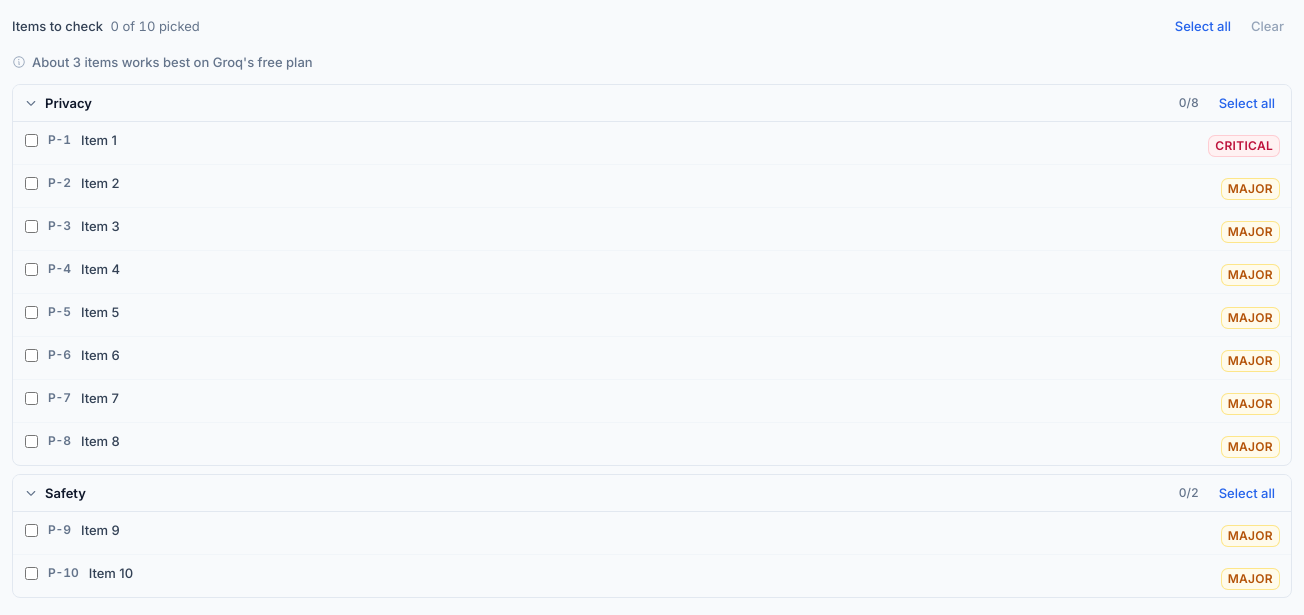
AppItemPicker › folds a category away and back, keeping its picks; categories start open
Click the checkbox labelled "Item 2": (32, 184) 25,177 -> 38,190
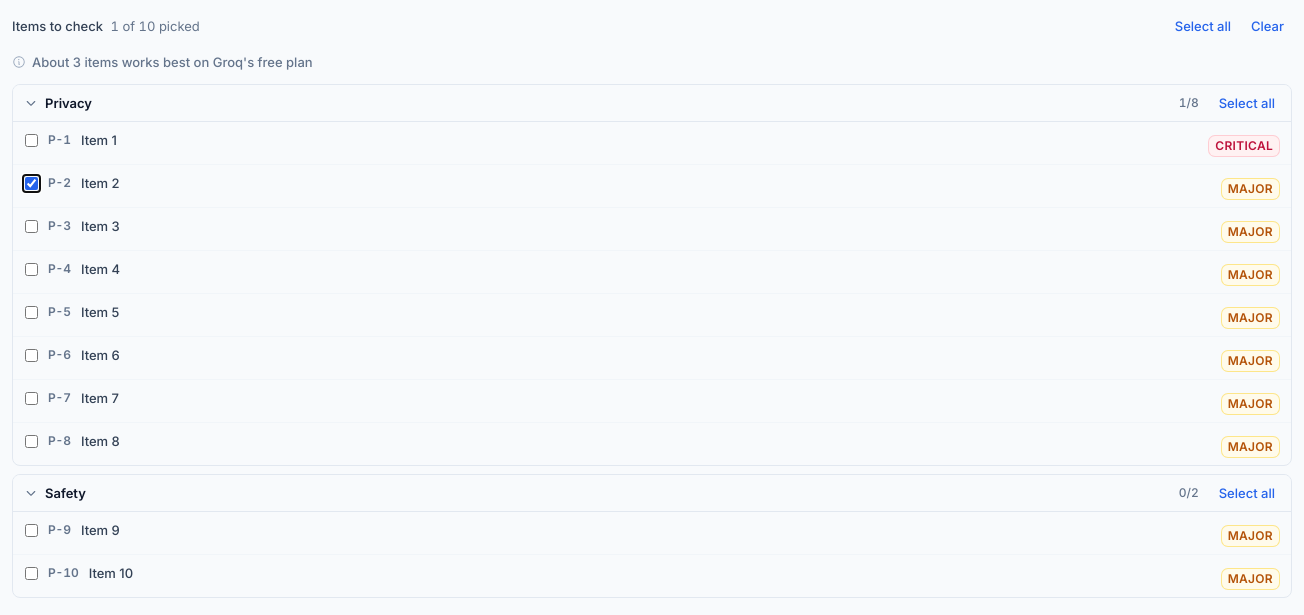
Click the button "Privacy 1/8": (68, 103) 13,85 -> 1211,121
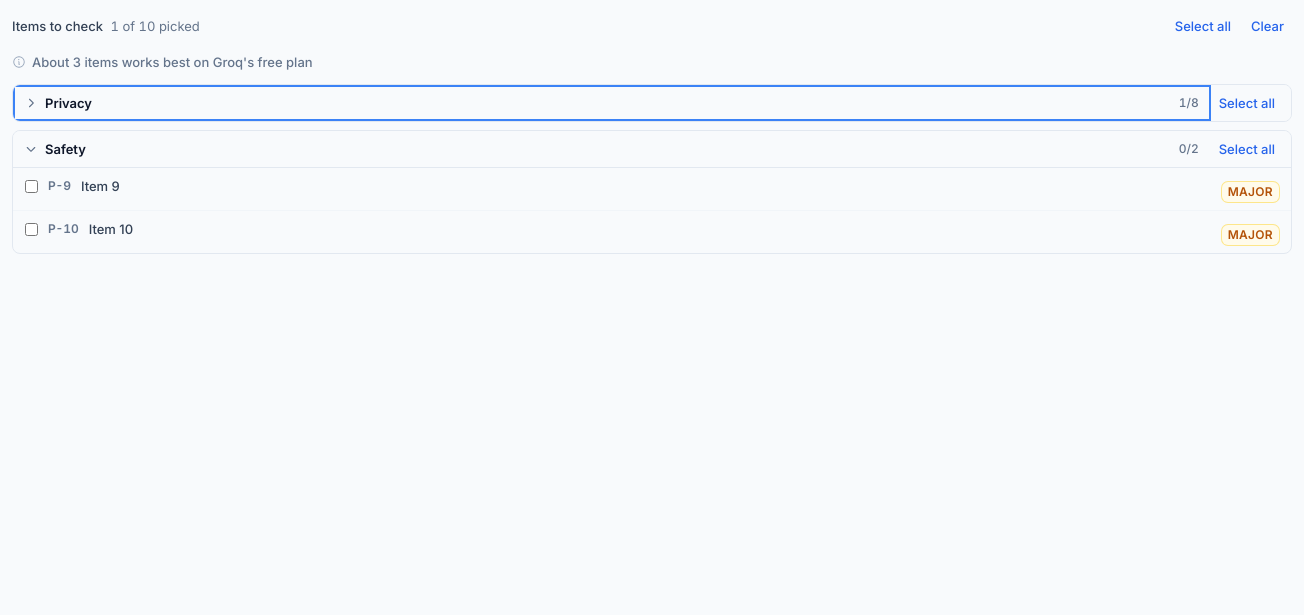
Check: the text "1 of 10 picked" is shown, box 110,18 -> 200,34
Check: the button "Privacy 1/8" is collapsed
Check: the label "Item 2" is gone
Click the button "Privacy 1/8": (68, 103) 13,85 -> 1211,121
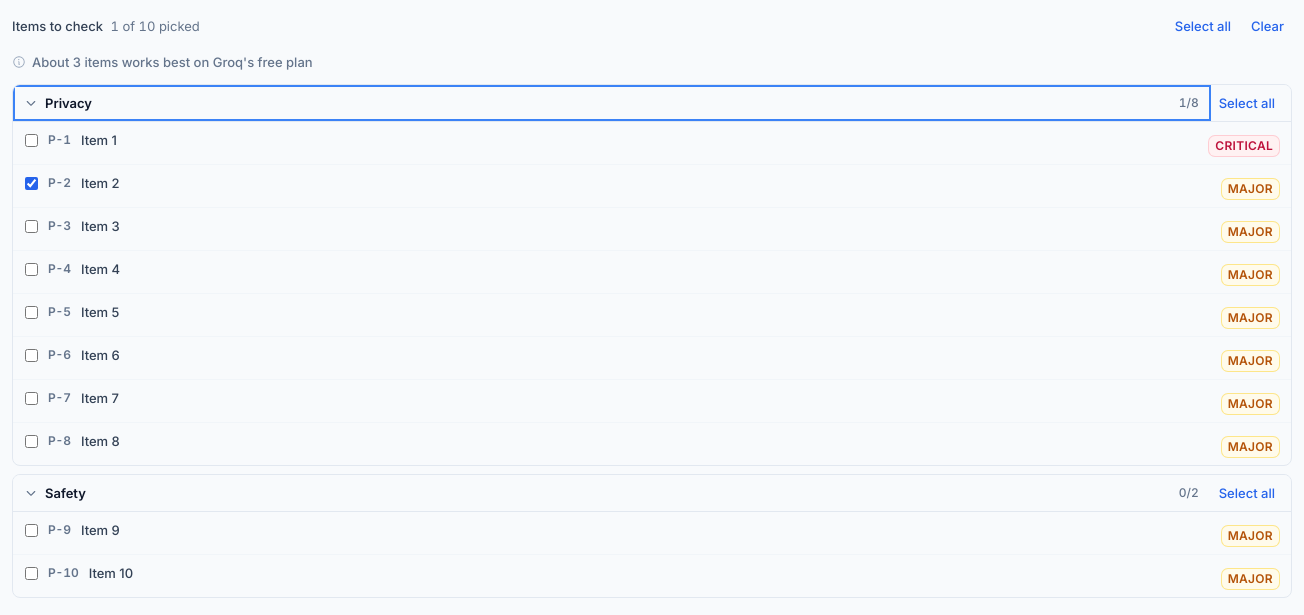
Check: the checkbox labelled "Item 2" is checked, box 25,177 -> 38,190
